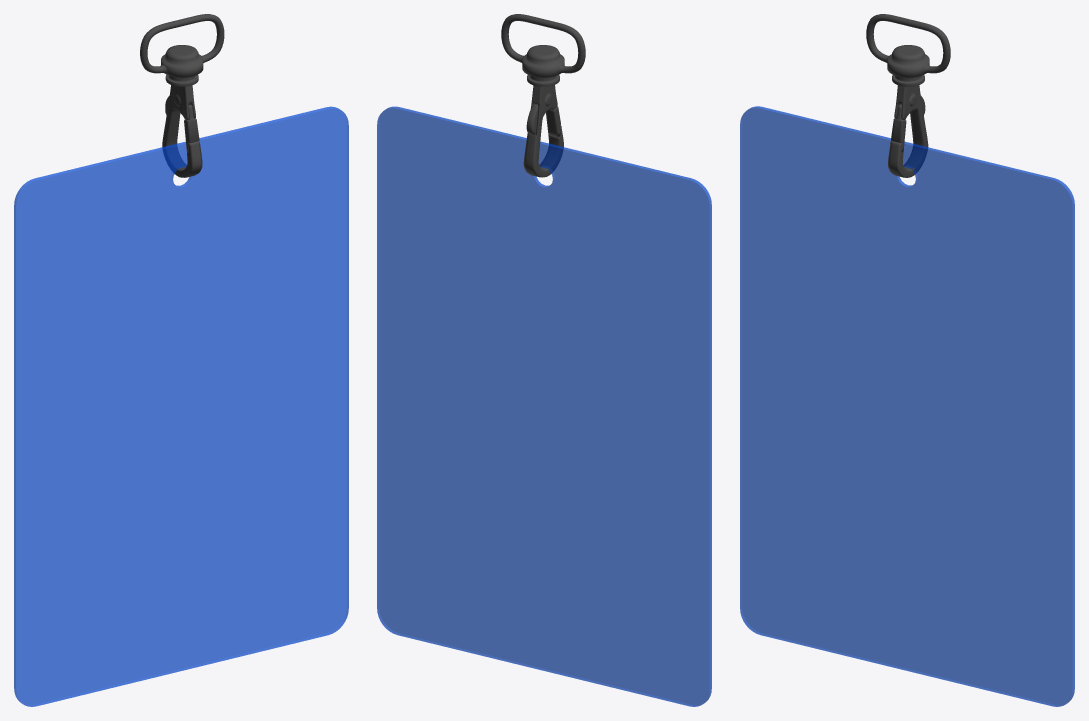
The model's file is conf-badge-4.glb.
3 views of the same model, side by side, from view 1: azimuth 30°, elevation 25°; view 2: azimuth 150°, elevation 25°; view 3: azimuth 330°, elevation 25° (orthographic).
Visible parts, largest first — view 1: SM_Blue, SM_Steel_01, SM_Steel_02; view 2: SM_Blue, SM_Steel_01, SM_Steel_02; view 3: SM_Blue, SM_Steel_01, SM_Steel_02.
Part boxes in pixels (x1,y1,x2,y2): SM_Blue: [14, 106, 348, 706]; SM_Steel_01: [140, 14, 224, 86]; SM_Steel_02: [162, 85, 202, 177]; SM_Blue: [377, 106, 711, 706]; SM_Steel_01: [501, 14, 585, 86]; SM_Steel_02: [523, 85, 563, 177]; SM_Blue: [740, 106, 1074, 706]; SM_Steel_01: [866, 14, 950, 86]; SM_Steel_02: [888, 85, 928, 177].
Size of the model in its own units: 0.3091 by 0.5771 by 0.0476.
